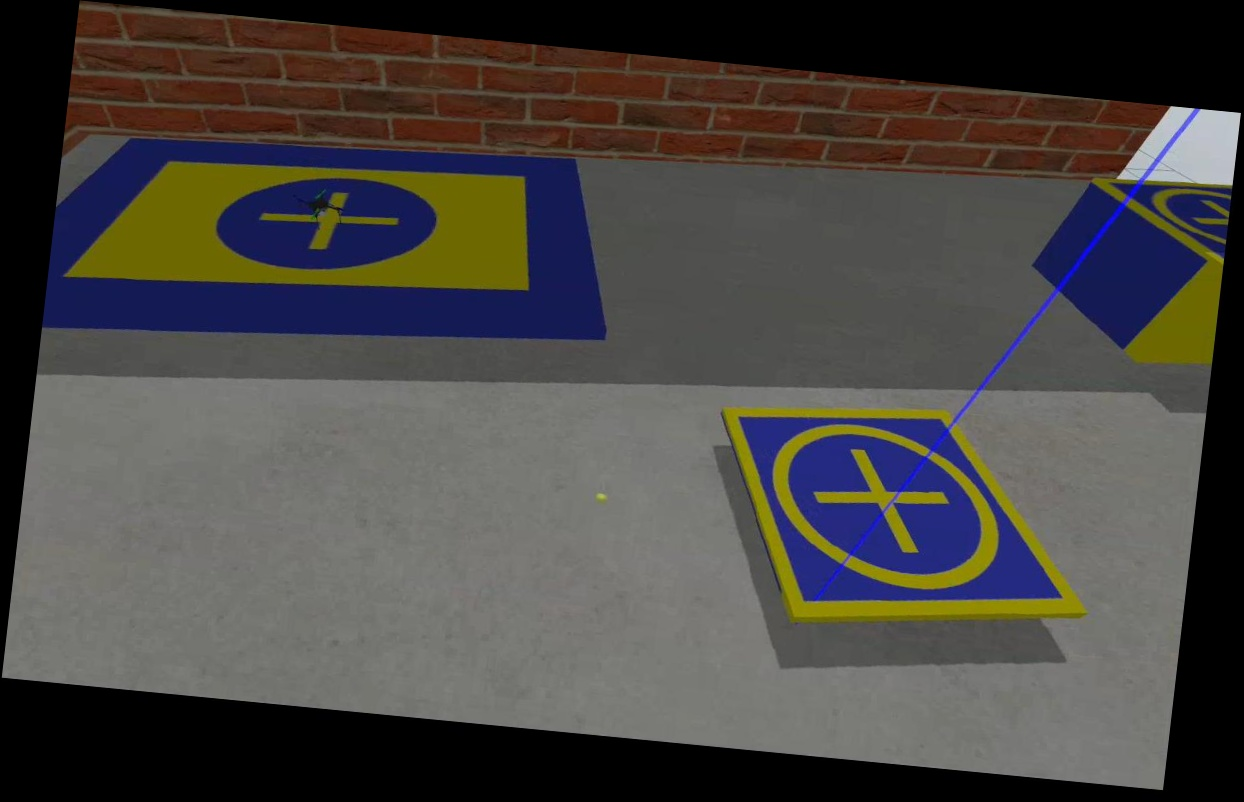large_base: (42, 107, 622, 378)
small_base: (698, 388, 1108, 645), (1082, 160, 1237, 261)
